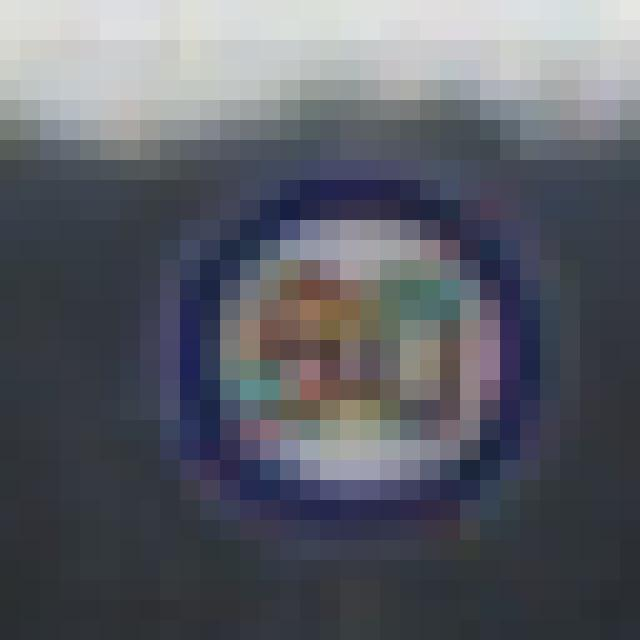SPEED-LIMIT-80: (168, 183, 524, 524)
